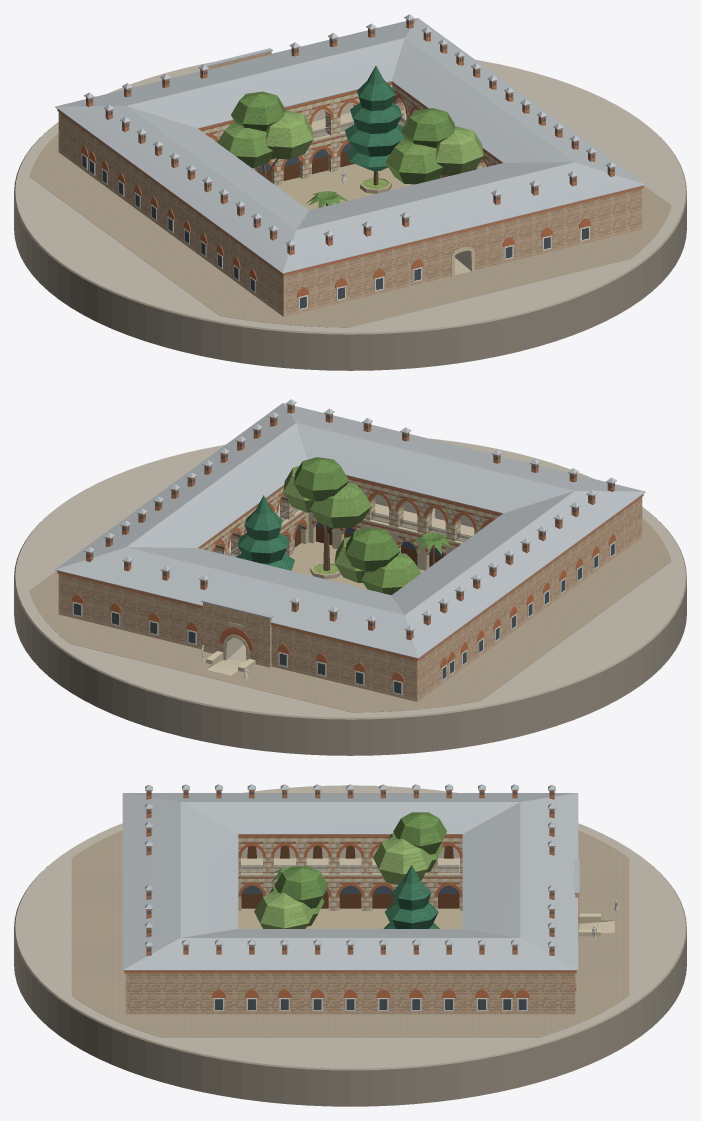
Rendered from emir-hani_v05_sunum.glb.
3 renders of one model, top to bottom at view 1: azimuth 30°, elevation 25°; view 2: azimuth 150°, elevation 25°; view 3: azimuth 270°, elevation 25°, orthographic.
Parts seen in each view (by area): view 1: Emir_Hani, Zemin_Kaide, Zemin_Sokak, Avlu_Revaklari, Cevre_Agac_02, Dis_Cephe, Cevre_Agac_01, Cevre_Agac_03, Bacalar, Han_Avlu, Girisler; view 2: Emir_Hani, Zemin_Kaide, Zemin_Sokak, Avlu_Revaklari, Dis_Cephe, Cevre_Agac_02, Bacalar, Girisler, Cevre_Agac_01, Cevre_Agac_03, Han_Avlu; view 3: Emir_Hani, Zemin_Kaide, Zemin_Sokak, Avlu_Revaklari, Dis_Cephe, Bacalar, Cevre_Agac_01, Cevre_Agac_02, Han_Avlu, Cevre_Agac_03, Girisler.
Part boxes in pixels (x1,y1,x2,y2): Emir_Hani: (55, 18, 645, 316); Zemin_Kaide: (14, 59, 686, 370); Zemin_Sokak: (29, 133, 671, 327); Avlu_Revaklari: (198, 81, 502, 185); Cevre_Agac_02: (385, 108, 483, 184); Dis_Cephe: (57, 109, 643, 309); Cevre_Agac_01: (217, 91, 313, 179); Cevre_Agac_03: (344, 66, 404, 193); Bacalar: (84, 14, 616, 255); Han_Avlu: (276, 164, 414, 210); Girisler: (201, 48, 474, 276); Emir_Hani: (55, 403, 645, 701); Zemin_Kaide: (14, 438, 686, 755); Zemin_Sokak: (29, 518, 671, 712); Avlu_Revaklari: (198, 475, 502, 570); Dis_Cephe: (57, 494, 643, 694); Cevre_Agac_02: (283, 457, 371, 579); Bacalar: (84, 399, 616, 640); Girisler: (201, 599, 272, 675); Cevre_Agac_01: (334, 527, 421, 595); Cevre_Agac_03: (236, 495, 294, 570); Han_Avlu: (289, 541, 424, 589); Emir_Hani: (122, 793, 578, 1014); Zemin_Kaide: (14, 785, 686, 1106); Zemin_Sokak: (71, 830, 629, 1037); Avlu_Revaklari: (238, 834, 462, 910); Dis_Cephe: (124, 970, 576, 1010); Bacalar: (145, 784, 555, 955); Cevre_Agac_01: (373, 812, 446, 884); Cevre_Agac_02: (254, 866, 328, 928); Han_Avlu: (238, 896, 462, 928); Cevre_Agac_03: (383, 865, 439, 928); Girisler: (574, 859, 614, 942).
Bounding box in the file's own units: 74.78 × 15.61 × 74.78.
25 materials, 10 textured.
